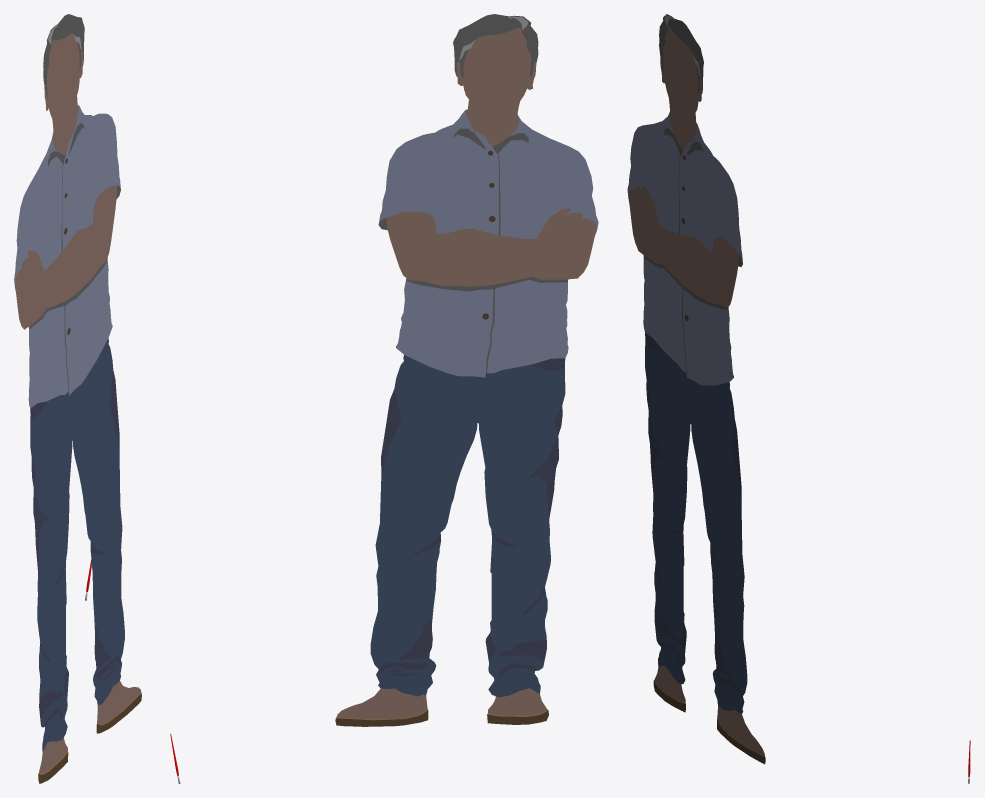
Rendered from paintbrush_red.fbx.
3 renders of one model, left to right at view 1: azimuth 30°, elevation 25°; view 2: azimuth 150°, elevation 25°; view 3: azimuth 270°, elevation 25°, orthographic. The views are drawn at different scales.
Parts seen in each view (by area): view 1: Niraj1; view 2: Niraj1; view 3: Niraj1.
Boxes of the visible parts, <box> form: Niraj1: <box>14,14,141,783</box>; Niraj1: <box>335,14,598,726</box>; Niraj1: <box>627,14,765,764</box>.
Bounding box in the file's own units: 26.14 × 70.5 × 31.69.
